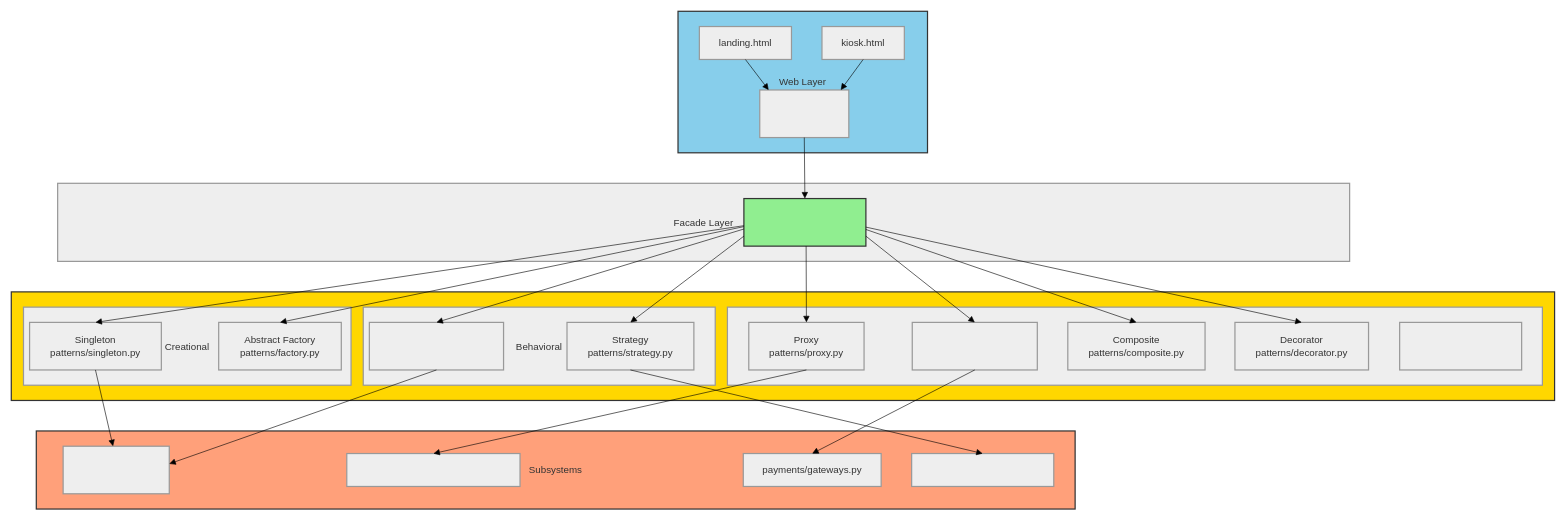
This 1565x520 diagram has some shape labels left out. Here are the shapes that lost their labels. From the top down, the centre of each, then its label:
[804,113]: app.py Flask Server
[804,222]: KioskInterface patterns/facade.py
[436,345]: Command patterns/command.py
[974,345]: Adapter patterns/adapter.py
[1460,345]: Facade patterns/facade.py
[116,469]: db/database.py SQLite
[433,470]: inventory/inventory_system.py
[982,470]: hardware/dispensers.py
